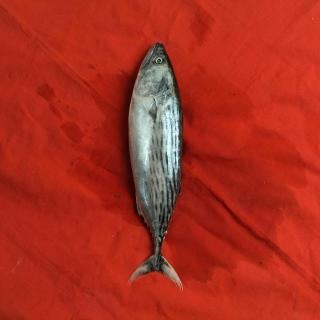Ikan: (121, 40, 197, 304)
